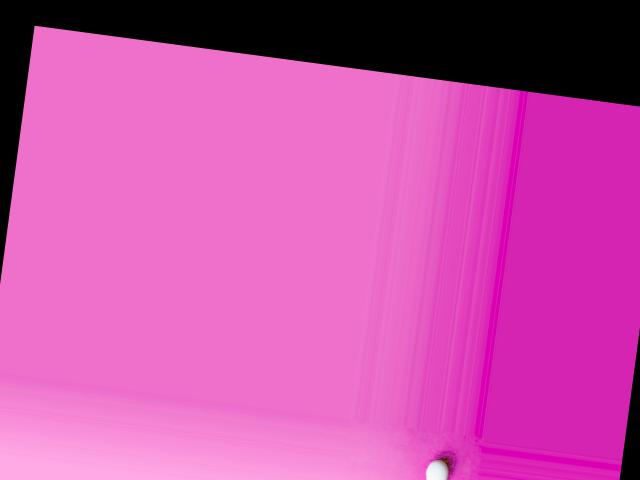egg: (423, 458, 449, 480)
